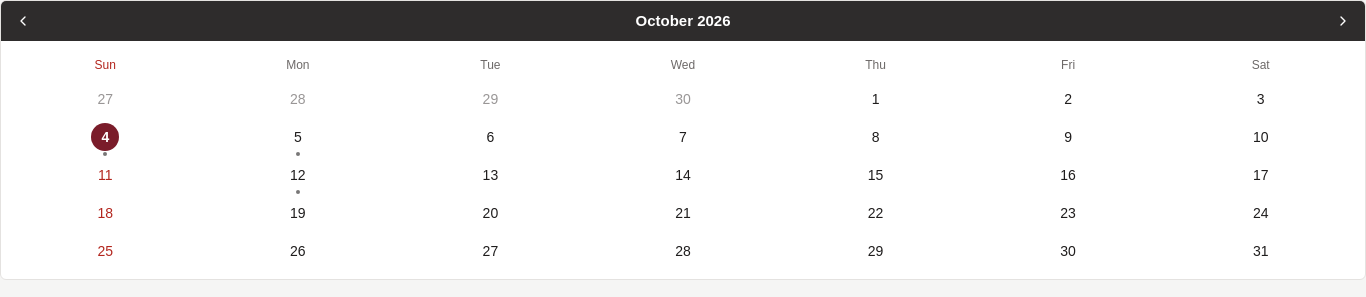
Test: uses the data it was given for the current month without asking the server
Click the button named "Previous month" at coordinates (23, 21), box [7,5,39,37]
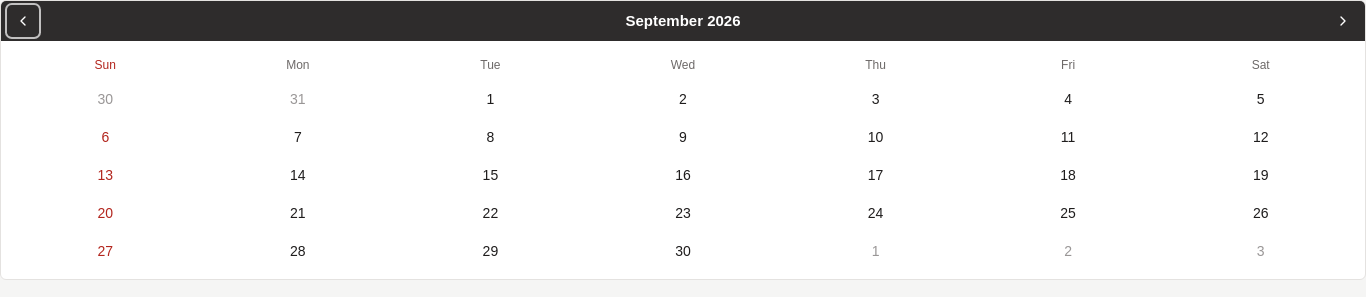
Click the button named "Next month" at coordinates (1343, 21), box [1327,5,1359,37]
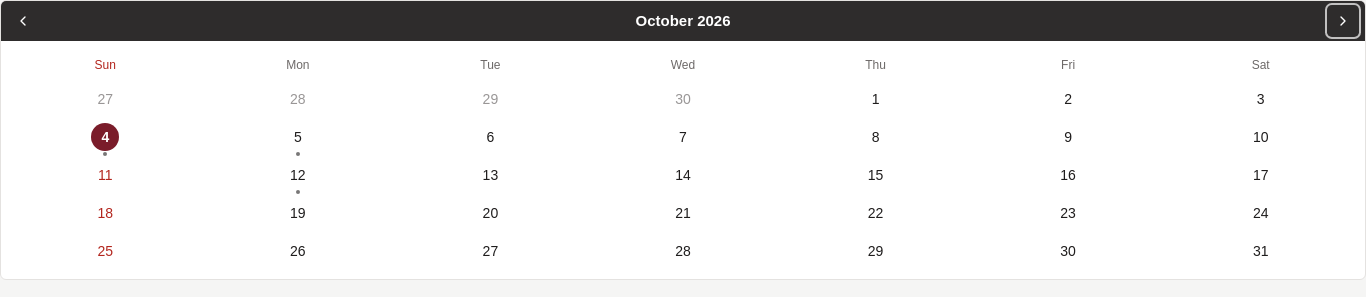
Expected: the heading "October 2026" is shown, [636,10,730,32]
Expected: the number of elements with test id "appointment-dot" is 3, [103,152,107,156]; [296,152,300,156]; [296,190,300,194]
